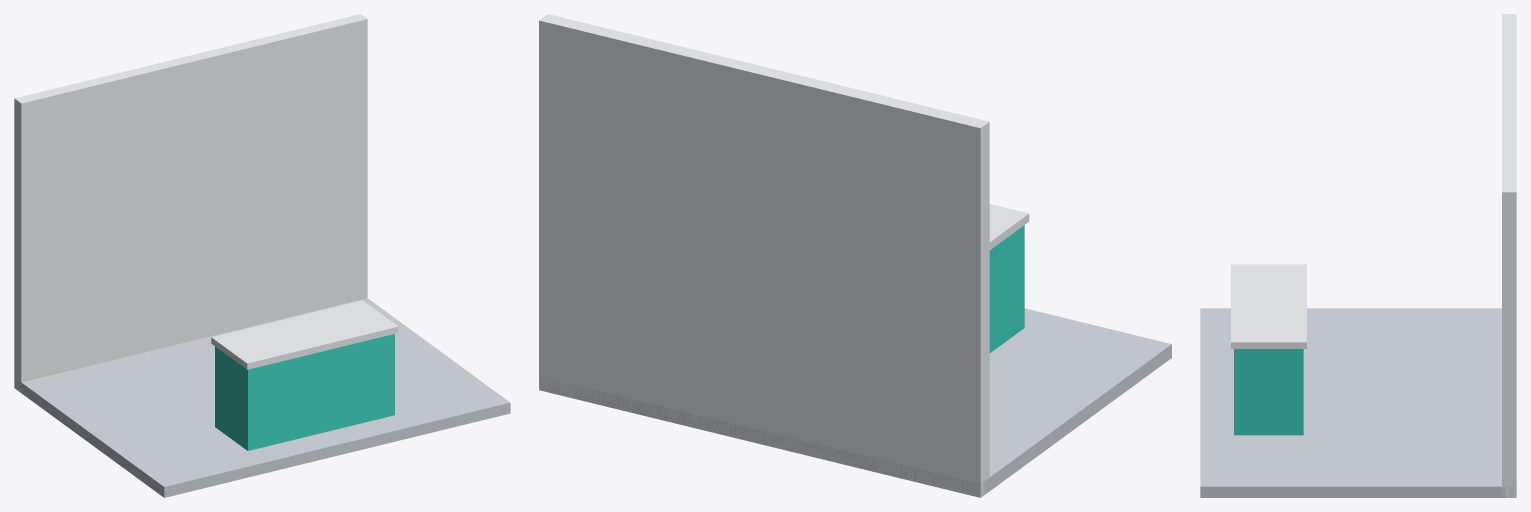
3 renders of one model, left to right at view 1: azimuth 30°, elevation 25°; view 2: azimuth 150°, elevation 25°; view 3: azimuth 270°, elevation 25°, orthographic. The views are drawn at different scales.
Parts seen in each view (by area): view 1: Exhibition Booth Concept; view 2: Exhibition Booth Concept; view 3: Exhibition Booth Concept.
Boxes of the visible parts, x1,y1,x2,y2 form: Exhibition Booth Concept: [14, 14, 510, 497]; Exhibition Booth Concept: [539, 14, 1171, 497]; Exhibition Booth Concept: [1200, 14, 1516, 497].
Size of the model in its own units: 4 by 3.2 by 3.
